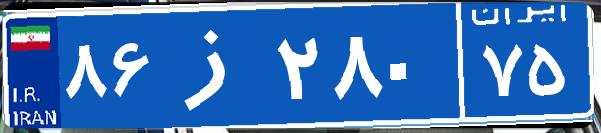0: (385, 28, 445, 110)
2: (273, 28, 330, 110)
5: (525, 38, 570, 115)
6: (110, 28, 158, 105)
7: (475, 38, 525, 113)
8: (330, 28, 385, 110), (57, 26, 110, 107)
ز: (158, 15, 273, 115)
